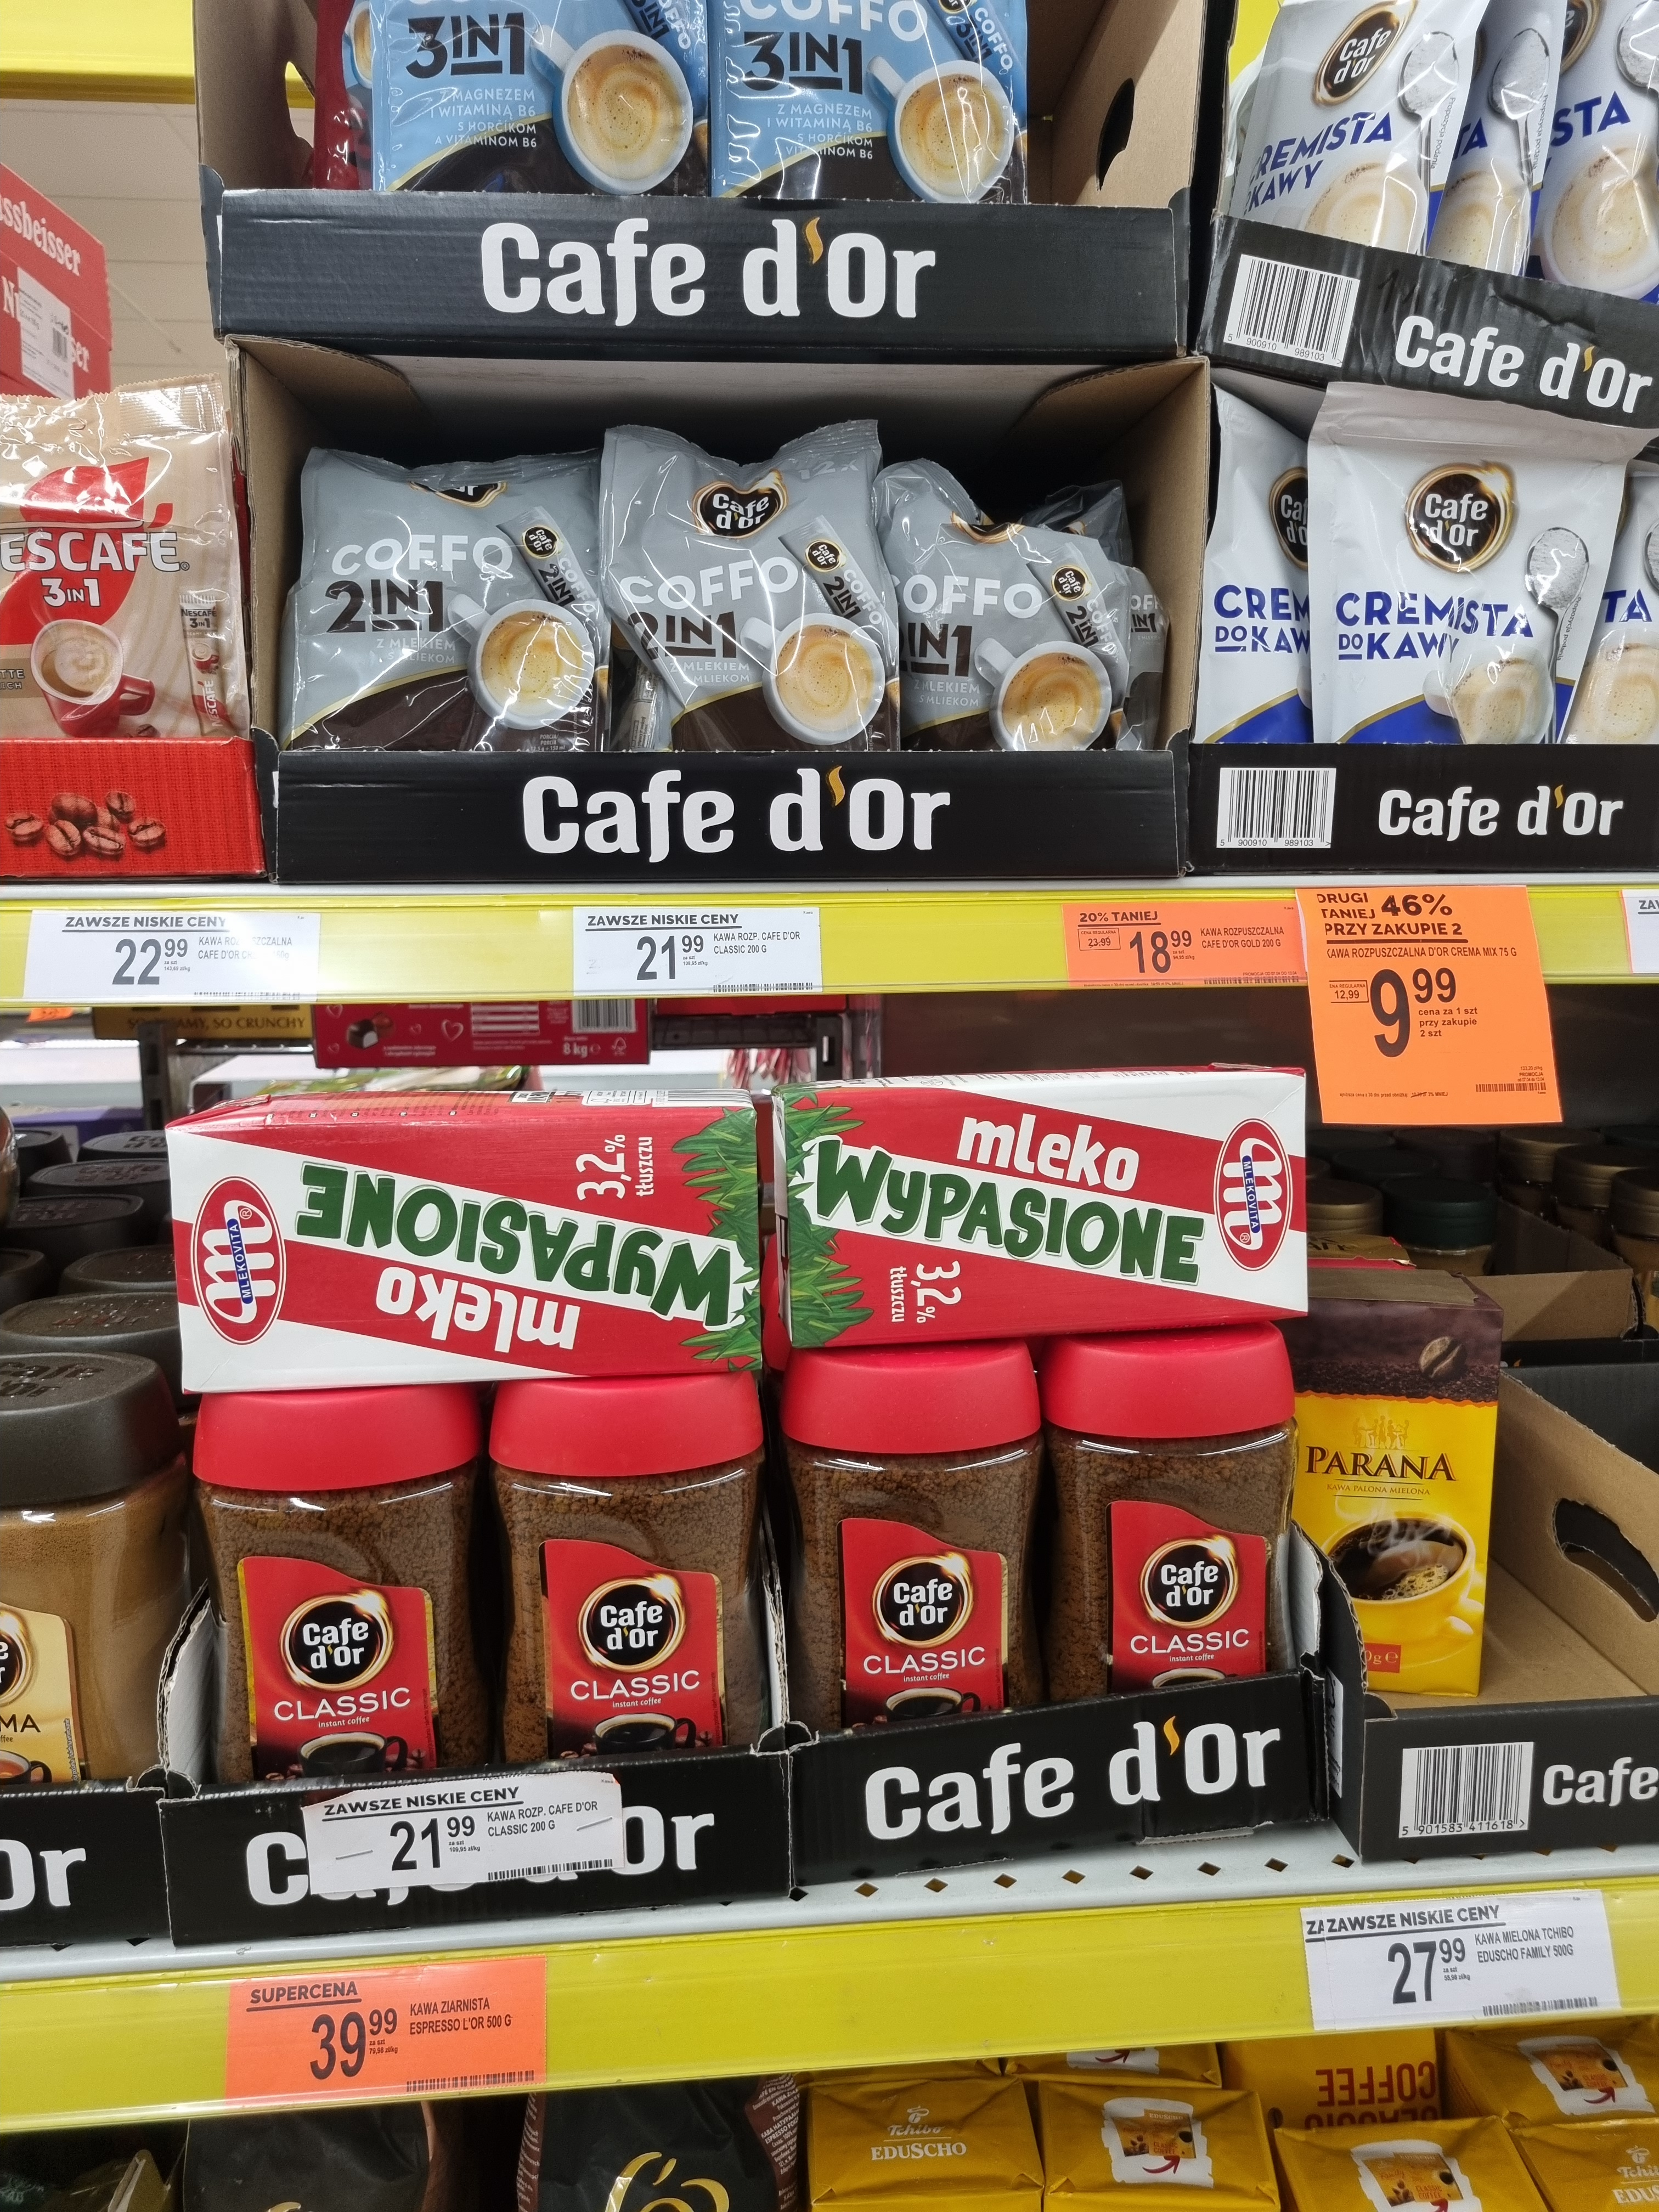Milk: (155, 1087, 774, 1388), (760, 1082, 1309, 1325)
